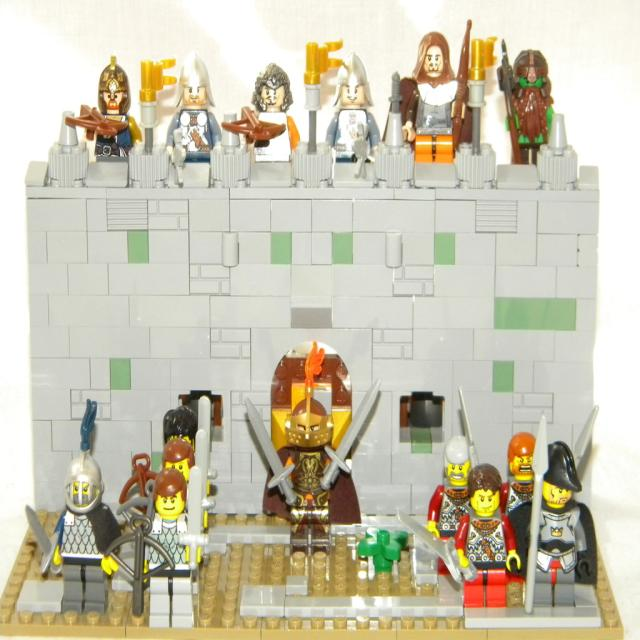Toy: (25, 19, 598, 614)
